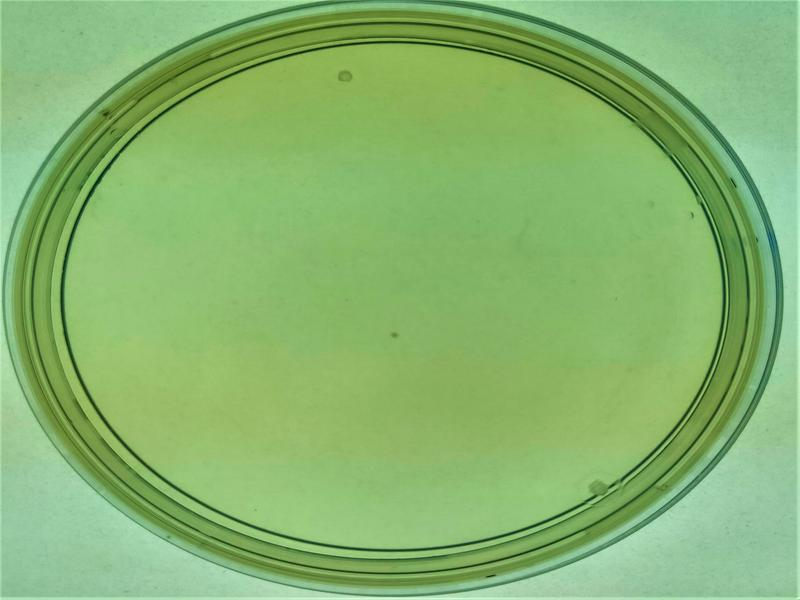colony: (380, 320, 412, 349), (331, 63, 359, 87)
